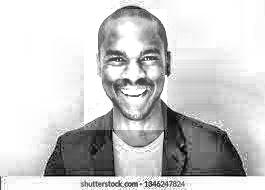happy: (84, 10, 167, 131)
